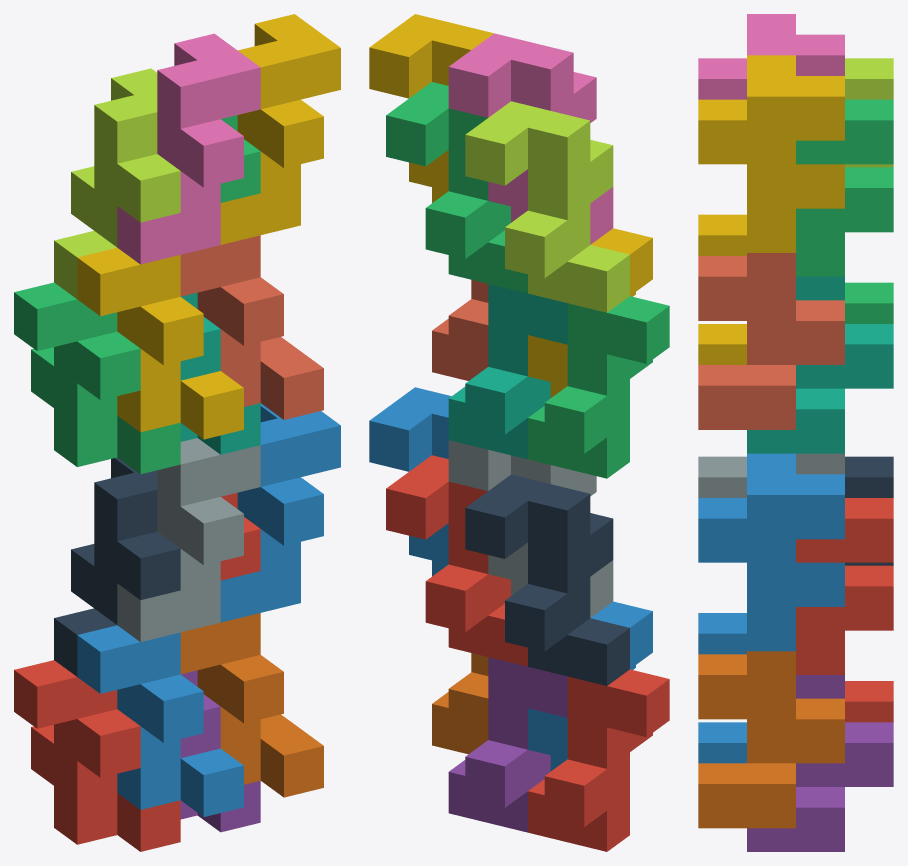
File: tiling.obj
The picture shows the model from 3 angles, left to right: view 1: azimuth 30°, elevation 25°; view 2: azimuth 150°, elevation 25°; view 3: azimuth 270°, elevation 25°; orthographic projection. The views are drawn at different scales.
Parts seen in each view (by area): view 1: copy_1_domain_1, copy_1_domain_3, copy_2_domain_4, copy_1_domain_2, copy_1_domain_4, copy_2_domain_8, copy_2_domain_2, copy_1_domain_6, copy_1_domain_8, copy_2_domain_6, copy_2_domain_3, copy_2_domain_1 (+4 smaller); view 2: copy_2_domain_3, copy_2_domain_1, copy_1_domain_3, copy_1_domain_1, copy_2_domain_5, copy_2_domain_7, copy_1_domain_7, copy_1_domain_5, copy_2_domain_4, copy_2_domain_8, copy_2_domain_6, copy_2_domain_2 (+4 smaller); view 3: copy_1_domain_6, copy_2_domain_6, copy_2_domain_8, copy_1_domain_8, copy_2_domain_7, copy_2_domain_5, copy_1_domain_7, copy_1_domain_5, copy_2_domain_4, copy_1_domain_2, copy_1_domain_4, copy_2_domain_2 (+4 smaller).
Part boxes in pixels (x1,y1,x2,y2): copy_1_domain_1: [14, 660, 180, 851]; copy_1_domain_3: [14, 282, 180, 474]; copy_2_domain_4: [117, 33, 260, 264]; copy_1_domain_2: [77, 625, 243, 816]; copy_1_domain_4: [77, 247, 243, 439]; copy_2_domain_8: [220, 14, 340, 244]; copy_2_domain_2: [117, 438, 260, 641]; copy_1_domain_6: [180, 613, 323, 797]; copy_1_domain_8: [180, 235, 323, 419]; copy_2_domain_6: [220, 403, 340, 622]; copy_2_domain_3: [54, 68, 180, 298]; copy_2_domain_1: [54, 457, 180, 676]; copy_2_domain_3: [465, 101, 629, 312]; copy_2_domain_1: [465, 474, 629, 685]; copy_1_domain_3: [528, 296, 669, 478]; copy_1_domain_1: [528, 669, 669, 851]; copy_2_domain_5: [386, 455, 527, 666]; copy_2_domain_7: [386, 82, 527, 293]; copy_1_domain_7: [448, 284, 567, 459]; copy_1_domain_5: [448, 657, 567, 832]; copy_2_domain_4: [448, 33, 613, 244]; copy_2_domain_8: [369, 14, 493, 202]; copy_2_domain_6: [369, 387, 451, 576]; copy_2_domain_2: [448, 440, 613, 617]; copy_1_domain_6: [698, 651, 844, 828]; copy_2_domain_6: [698, 453, 844, 651]; copy_2_domain_8: [698, 55, 844, 252]; copy_1_domain_8: [698, 253, 844, 429]; copy_2_domain_7: [796, 99, 893, 276]; copy_2_domain_5: [796, 498, 893, 674]; copy_1_domain_7: [747, 276, 893, 453]; copy_1_domain_5: [747, 675, 893, 851]; copy_2_domain_4: [698, 14, 844, 99]; copy_1_domain_2: [698, 613, 746, 763]; copy_1_domain_4: [698, 214, 746, 364]; copy_2_domain_2: [698, 453, 844, 497].
Size of the model in its own units: 7 by 18 by 4.
